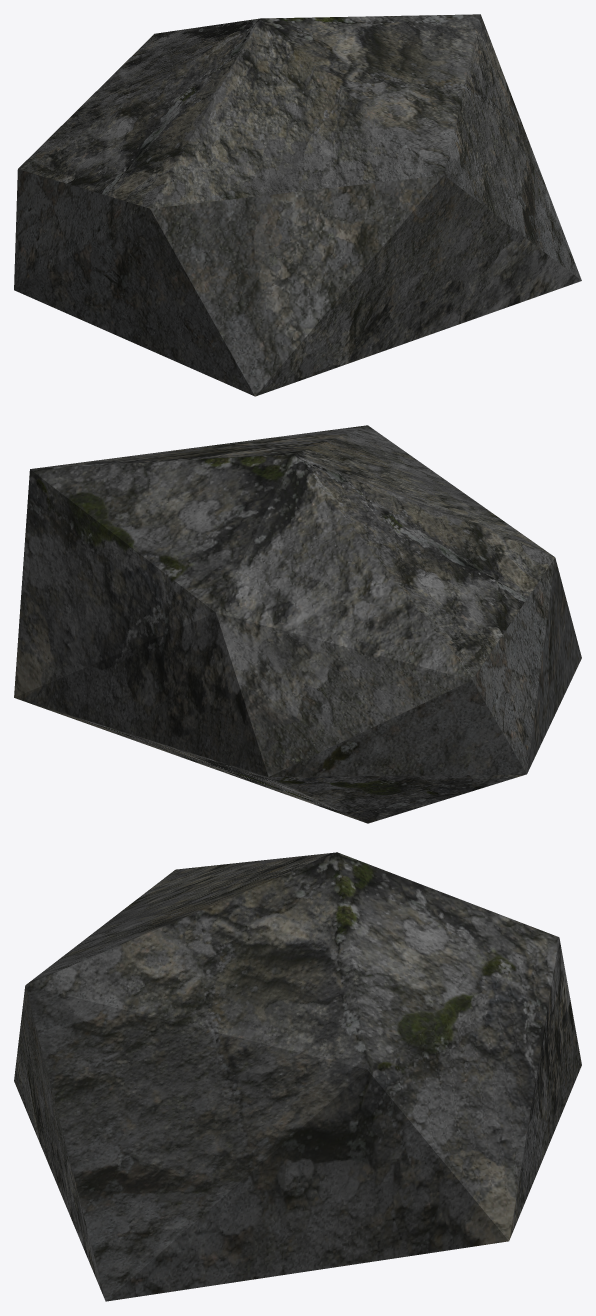
The model's file is Rock_3.fbx.
3 renders of one model, top to bottom at view 1: azimuth 30°, elevation 25°; view 2: azimuth 150°, elevation 25°; view 3: azimuth 270°, elevation 25°, orthographic. The views are drawn at different scales.
Parts seen in each view (by area): view 1: Rock_3; view 2: Rock_3; view 3: Rock_3.
Boxes of the visible parts, <box> form: Rock_3: <box>14,14,581,396</box>; Rock_3: <box>14,425,581,823</box>; Rock_3: <box>14,852,581,1301</box>.
Size of the model in its own units: 121 by 77.9 by 103.
